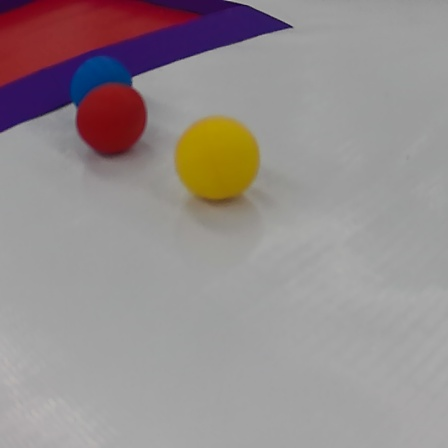blue: (69, 56, 141, 120)
red: (73, 86, 152, 158)
red_aim: (0, 0, 294, 133)
yellow: (174, 115, 261, 212)
